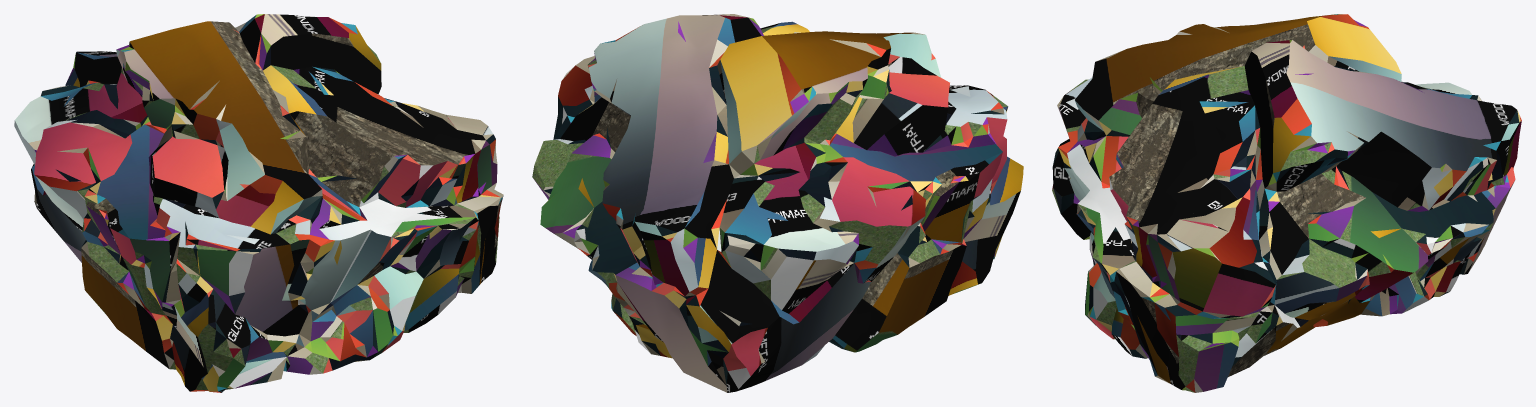
File: rocks_02.fbx
The picture shows the model from 3 angles, left to right: view 1: azimuth 30°, elevation 25°; view 2: azimuth 150°, elevation 25°; view 3: azimuth 270°, elevation 25°; orthographic projection. The views are drawn at different scales.
Visible parts, largest first — view 1: Mesh_0096, Mesh_0099; view 2: Mesh_0096, Mesh_0099; view 3: Mesh_0099, Mesh_0096.
Part boxes in pixels (x1,y1,x2,y2): Mesh_0096: (14, 15, 503, 392); Mesh_0099: (15, 14, 503, 362); Mesh_0096: (532, 17, 1023, 392); Mesh_0099: (534, 14, 1008, 290); Mesh_0099: (1057, 14, 1519, 351); Mesh_0096: (1052, 45, 1521, 392).
Size of the model in its own units: 283 by 190 by 292.
